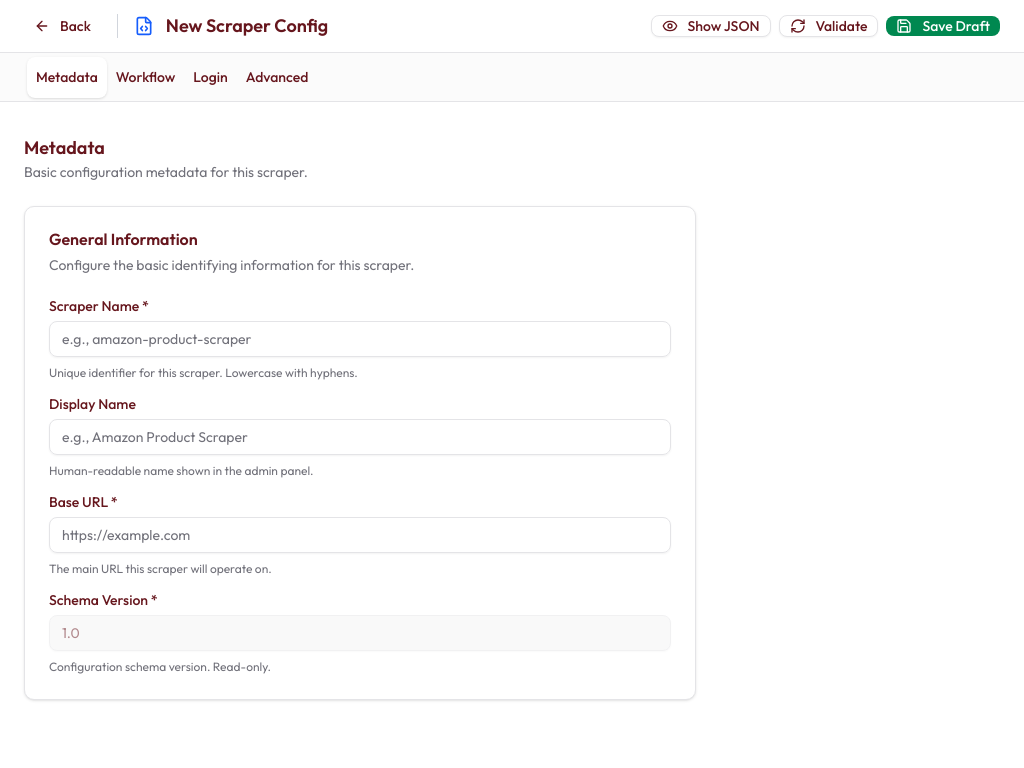
Test: ConfigEditorClient › JSON Preview › toggles JSON preview visibility
Click show JSON button
Click the button "Show JSON" at (711, 26), box [651, 15, 771, 37]
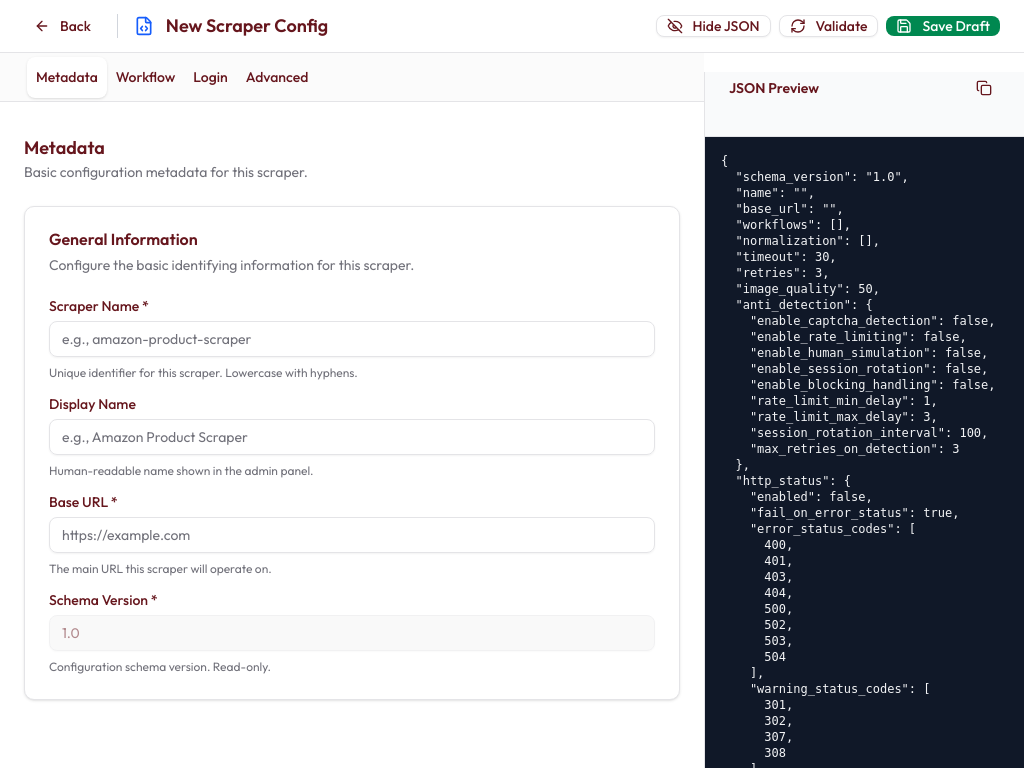
expect the text "JSON Preview" is shown: met, box [729, 78, 819, 98]
expect the text "\"schema_version\": \"1.0\"" is shown: met, box [721, 154, 996, 767]
Click hide JSON button
Click the button "Hide JSON" at (713, 26), box [656, 15, 771, 37]
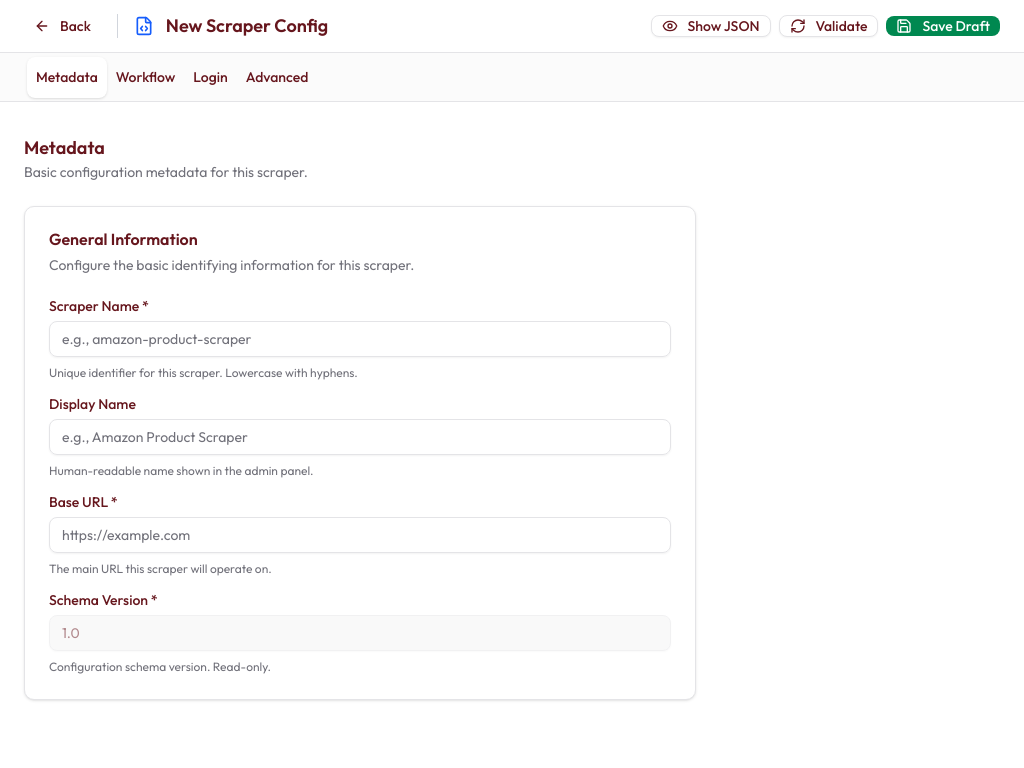
expect the text "JSON Preview" is gone: met
